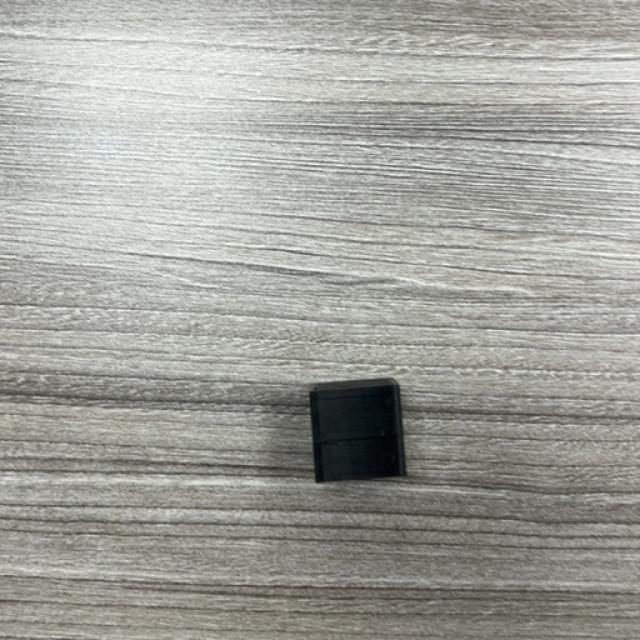Negro: (309, 378, 411, 484)
